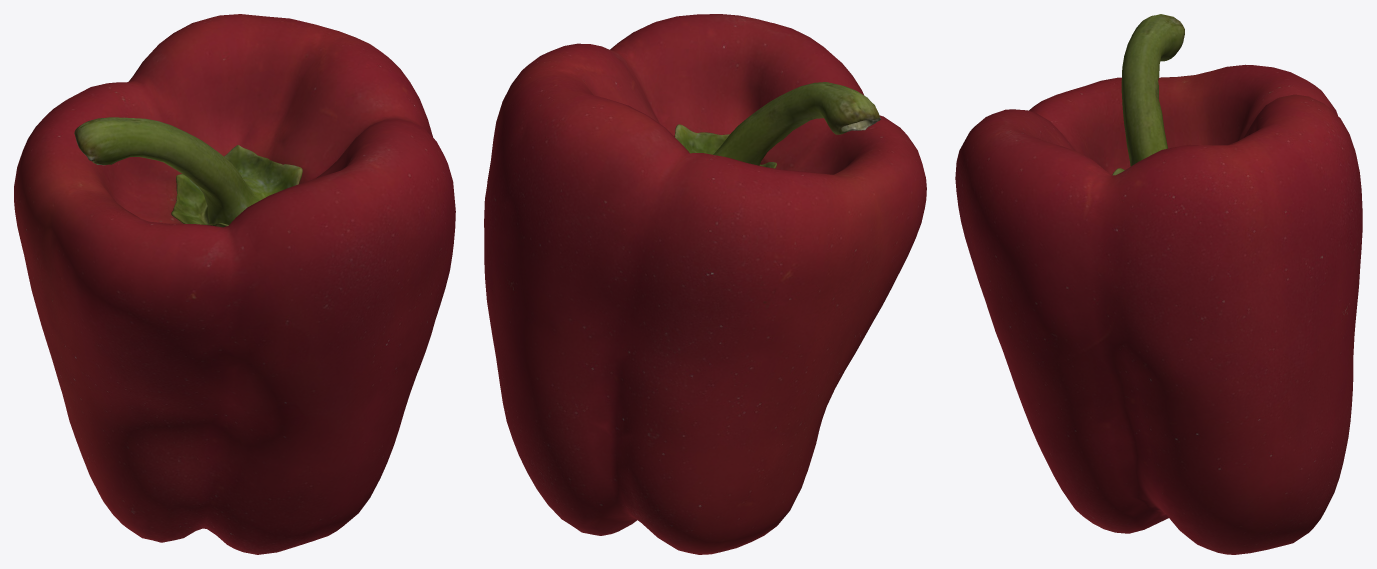
Rendered from apple.gltf.
3 views of the same model, side by side, from view 1: azimuth 30°, elevation 25°; view 2: azimuth 150°, elevation 25°; view 3: azimuth 270°, elevation 25° (orthographic). The views are drawn at different scales.
Visible parts, largest first — view 1: Aset_edible_vegetable_S_uhriag3va_LOD0; view 2: Aset_edible_vegetable_S_uhriag3va_LOD0; view 3: Aset_edible_vegetable_S_uhriag3va_LOD0.
Part boxes in pixels (box(x1,y1,x2,y2)): Aset_edible_vegetable_S_uhriag3va_LOD0: box(14, 14, 455, 554); Aset_edible_vegetable_S_uhriag3va_LOD0: box(484, 14, 926, 554); Aset_edible_vegetable_S_uhriag3va_LOD0: box(955, 14, 1362, 554).
Bounding box in the file's own units: 0.9141 × 1.03 × 0.8786.
Materials: 1 (1 with a texture image).
